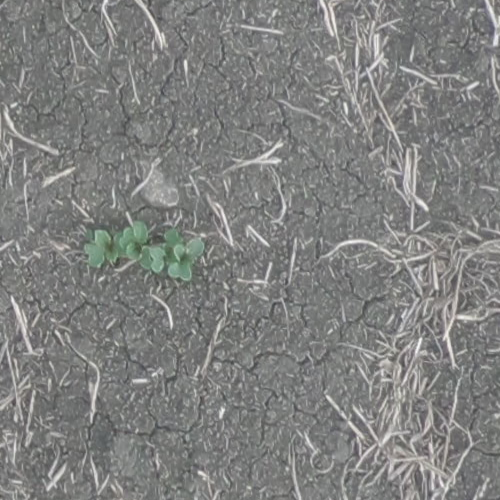clumped: (81, 220, 206, 279)
